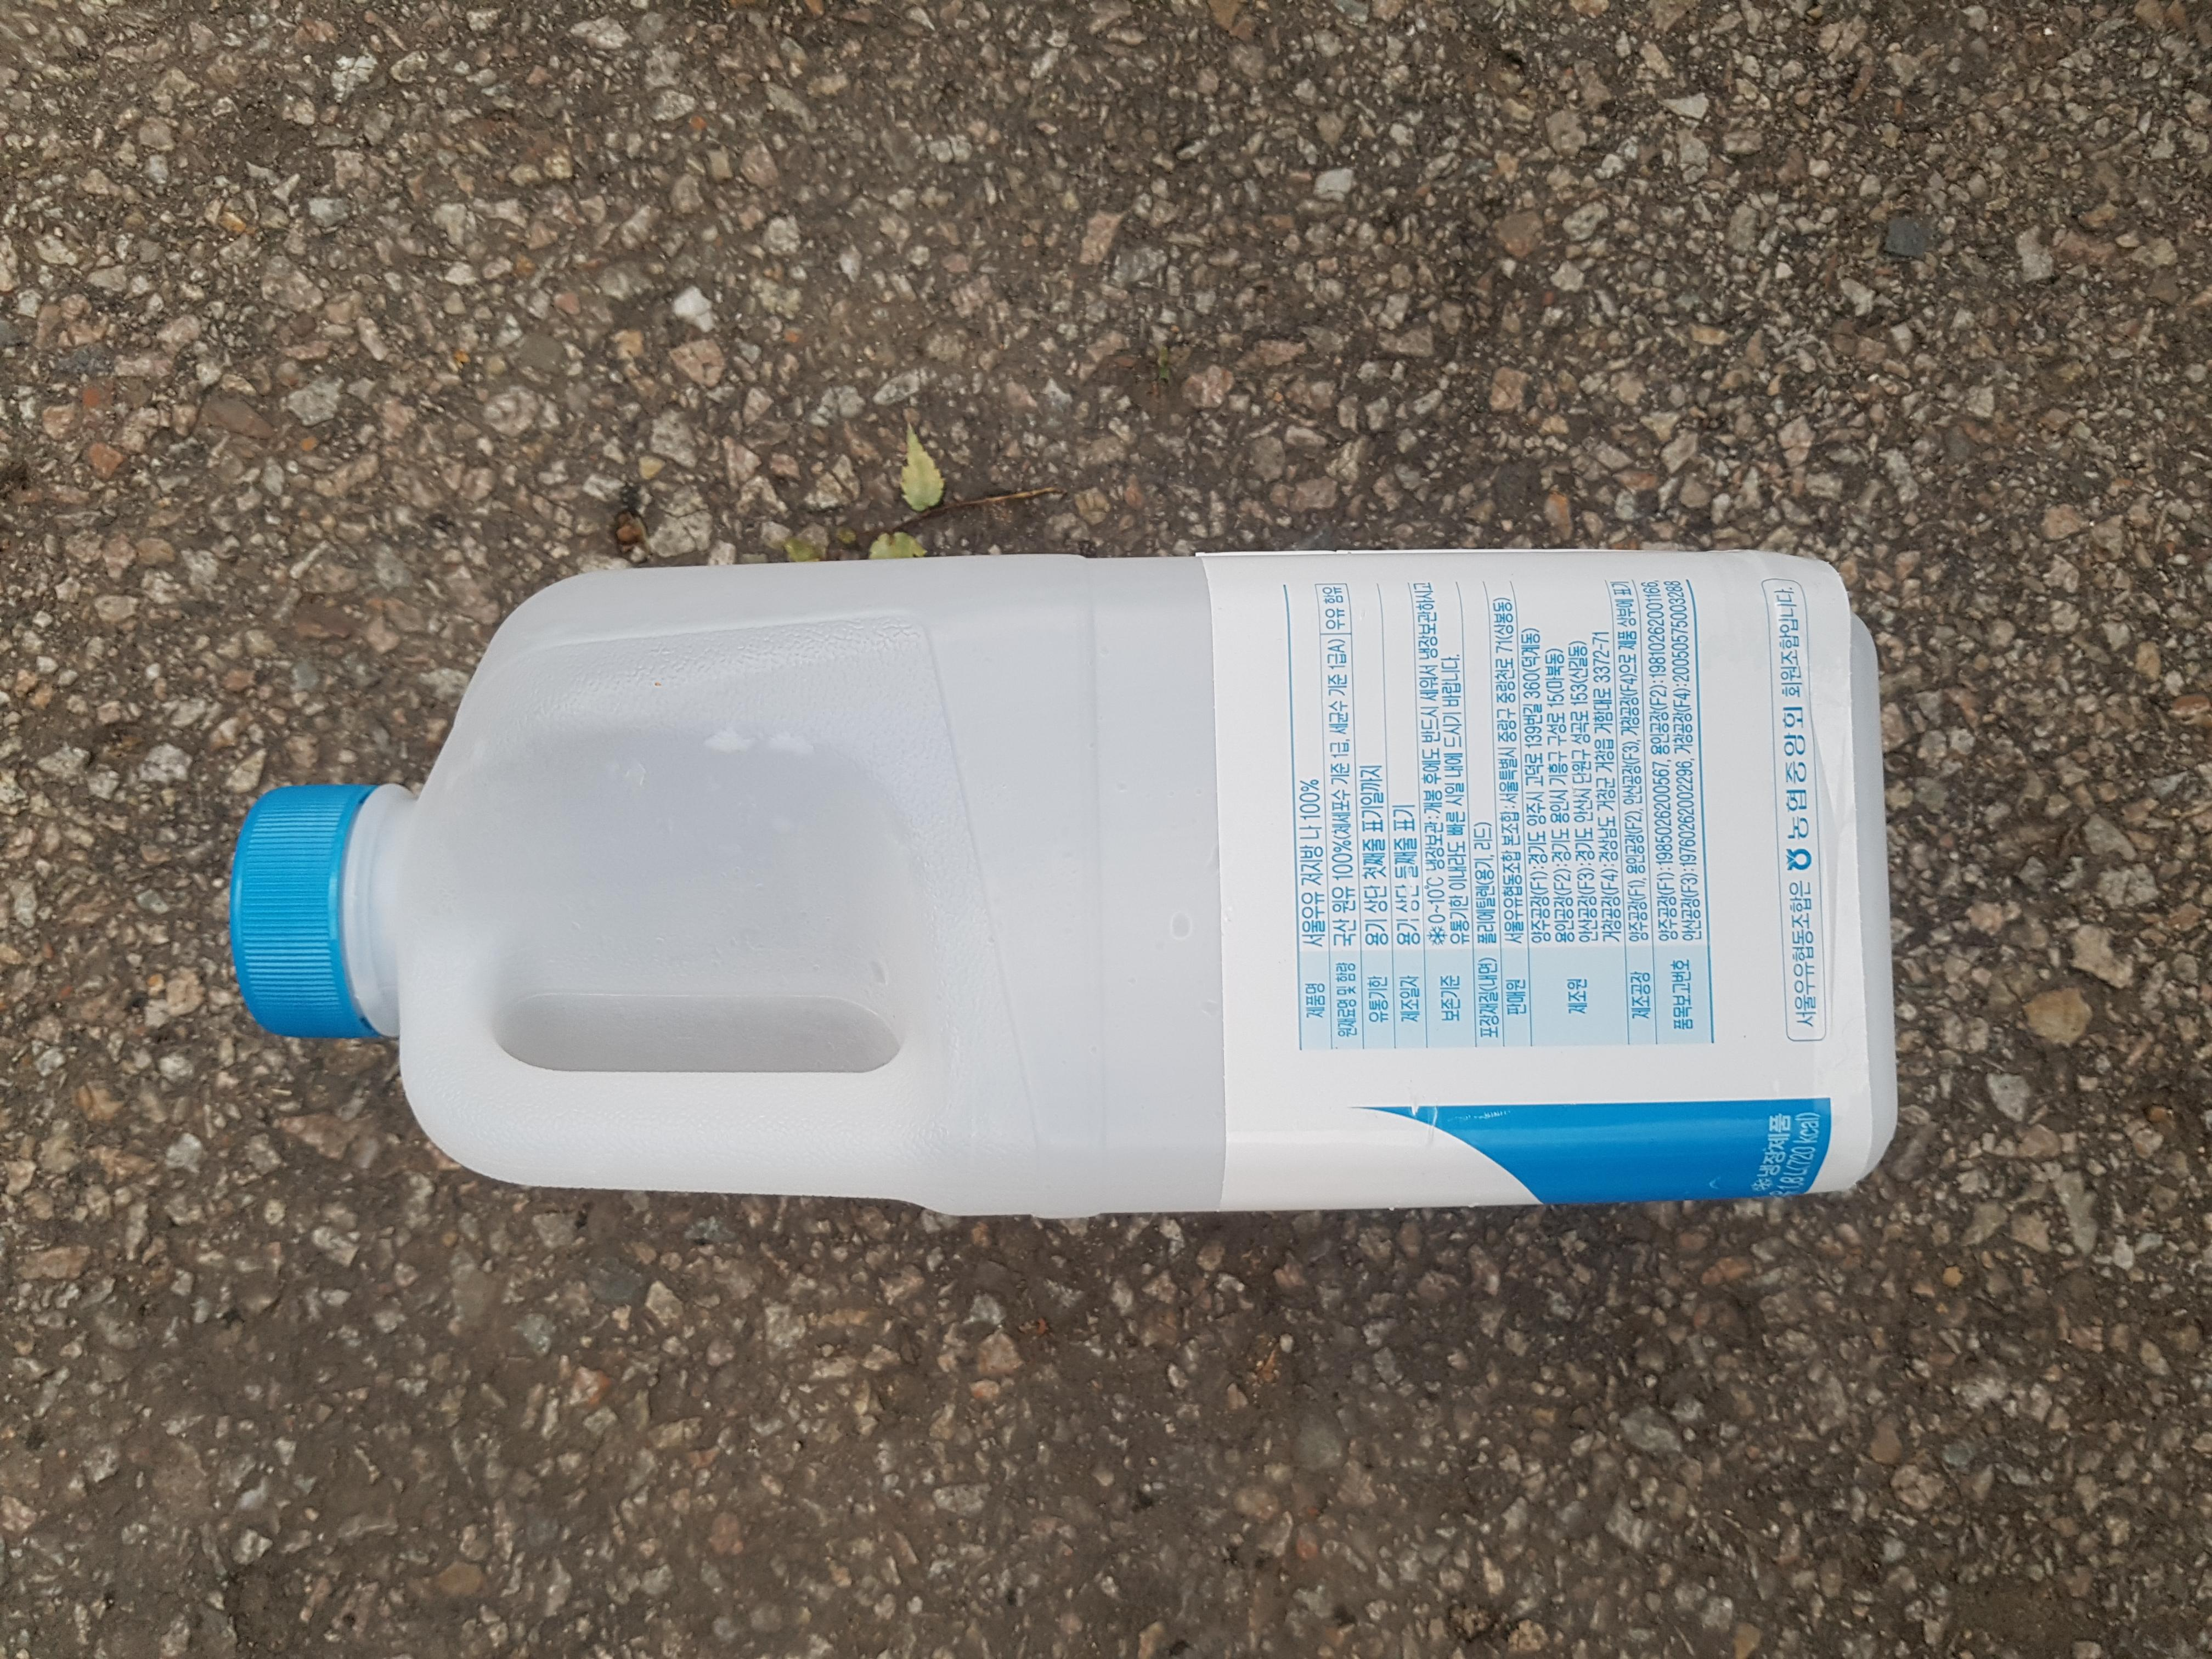plastic_bottle: (195, 495, 1940, 1253)
